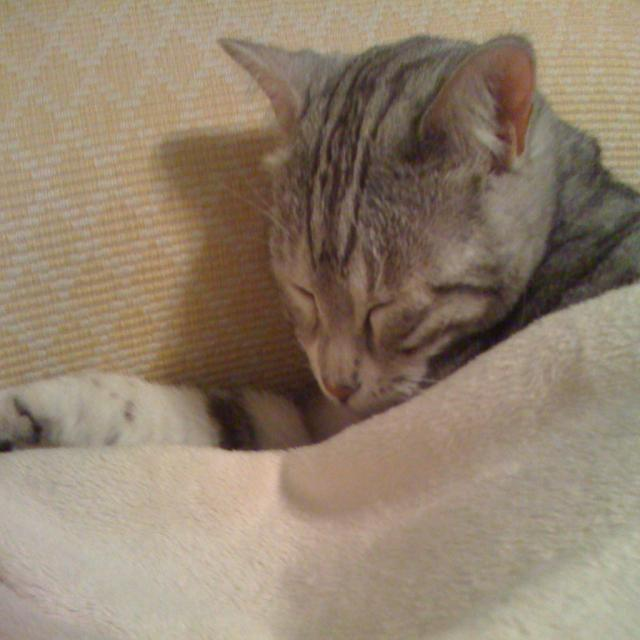Cat: (0, 39, 639, 453)
